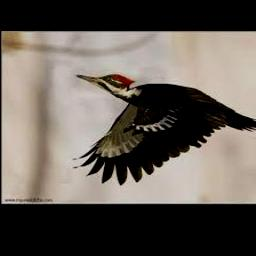Woodpecker: (72, 74, 256, 186)
